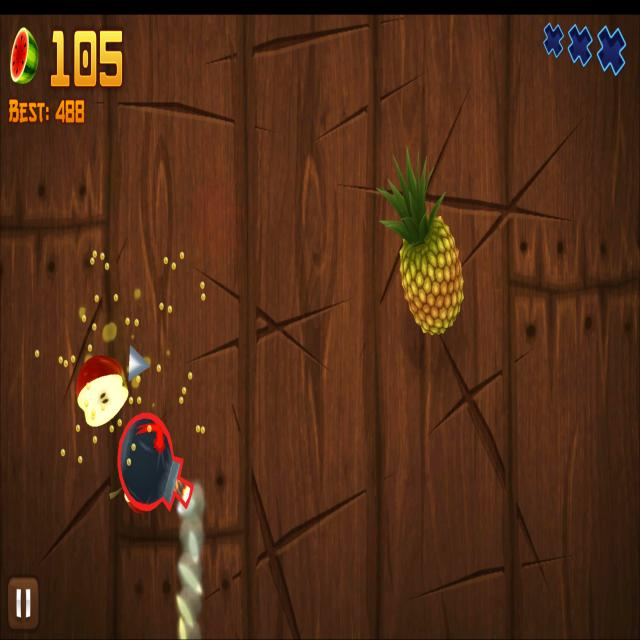bomb: (118, 412, 194, 514)
fruit: (400, 216, 464, 335)
